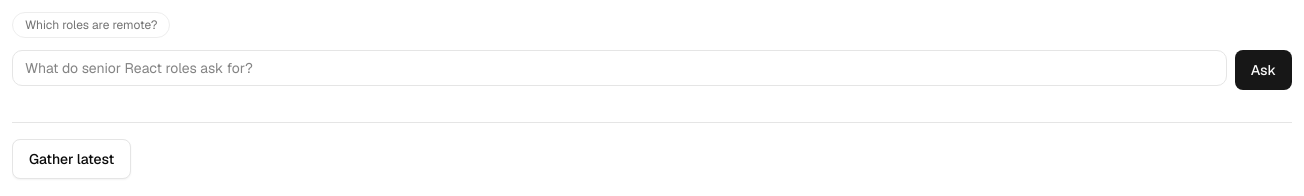
Test: MarketFitConsole › clicking a suggested chip fills the input
This screenshot has width=1304, height=196.
Click the button "Which roles are remote?". click: (91, 25)
box: [12, 12, 170, 38]
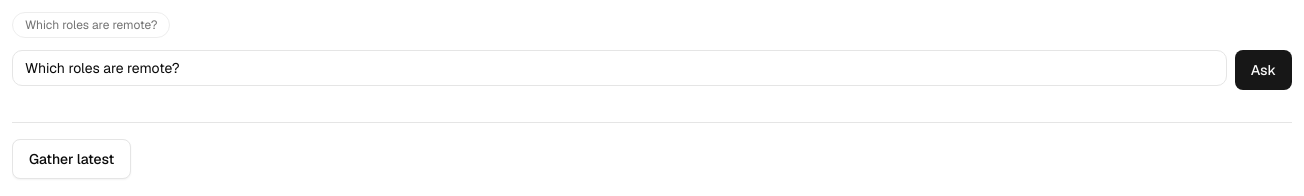
Result: the field with placeholder "What do senior React roles ask for?" holds "Which roles are remote?" at [12, 50, 1227, 86]
